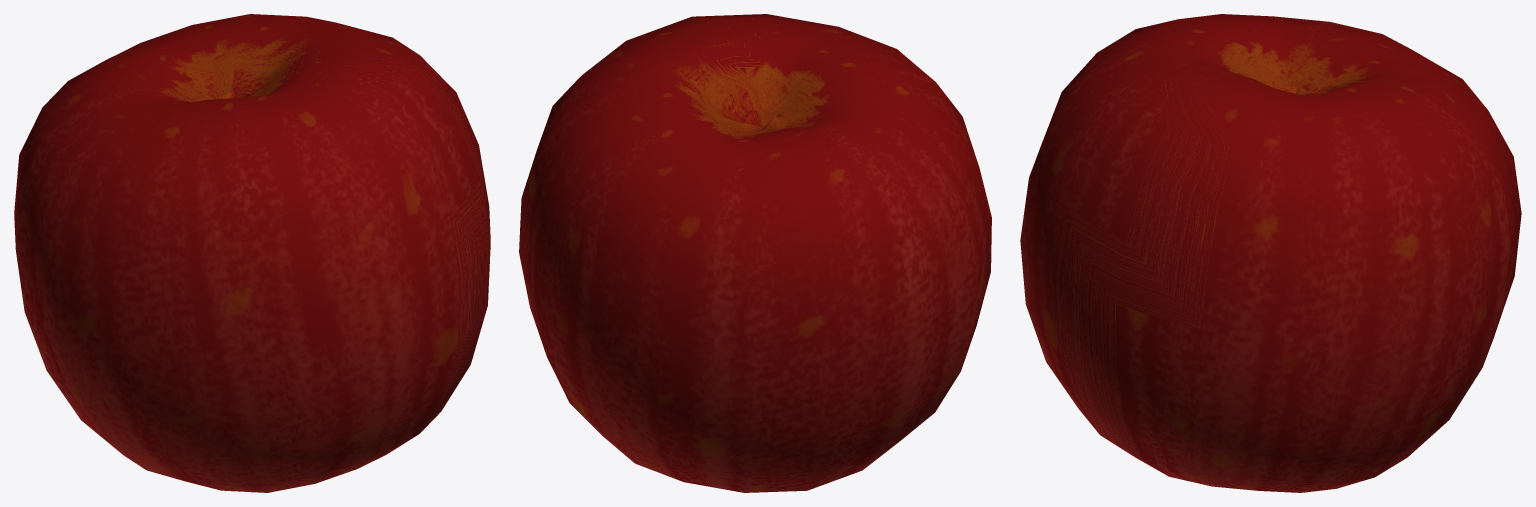
File: Fruit_Apple_01.fbx
The picture shows the model from 3 angles, left to right: view 1: azimuth 30°, elevation 25°; view 2: azimuth 150°, elevation 25°; view 3: azimuth 270°, elevation 25°; orthographic projection. The views are drawn at different scales.
Visible parts, largest first — view 1: Fruit_01.001; view 2: Fruit_01.001; view 3: Fruit_01.001.
Part boxes in pixels (left/top/right/bottom): Fruit_01.001: left=14, top=14, right=490, bottom=492; Fruit_01.001: left=519, top=14, right=991, bottom=492; Fruit_01.001: left=1020, top=14, right=1521, bottom=492.
Bounding box in the file's own units: 0.1113 × 0.1004 × 0.1112.
